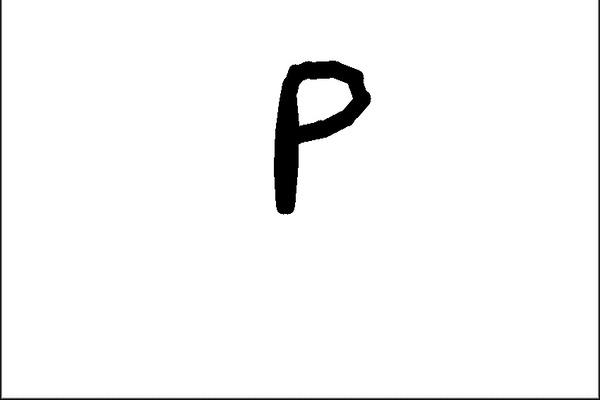P: (253, 54, 385, 219)
